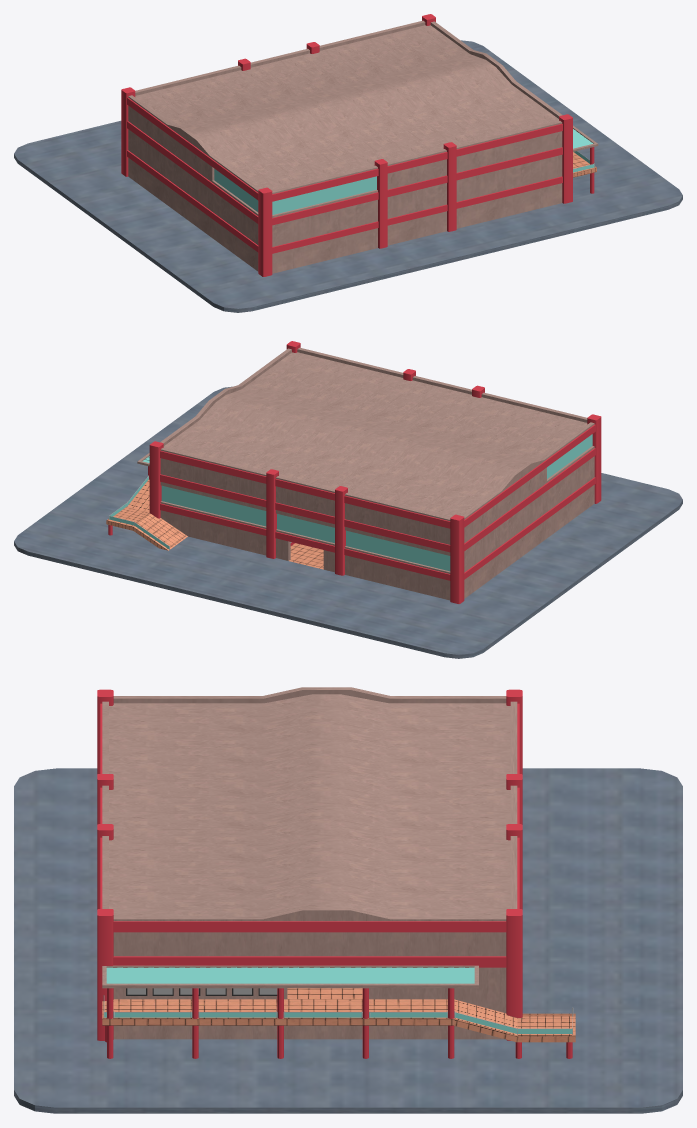
File: Empty_Mall.obj
3 views of the same model, one above another, from view 1: azimuth 30°, elevation 25°; view 2: azimuth 150°, elevation 25°; view 3: azimuth 270°, elevation 25° (orthographic). The views are drawn at different scales.
Parts seen in each view (by area): view 1: Empty_Mall; view 2: Empty_Mall; view 3: Empty_Mall.
Part boxes in pixels (x1=…): Empty_Mall: x1=14, y1=14, x2=682, y2=312; Empty_Mall: x1=14, y1=341, x2=682, y2=658; Empty_Mall: x1=14, y1=687, x2=682, y2=1113.
Size of the model in its own units: 120 by 22.27 by 100.
1 material, 1 textured.
